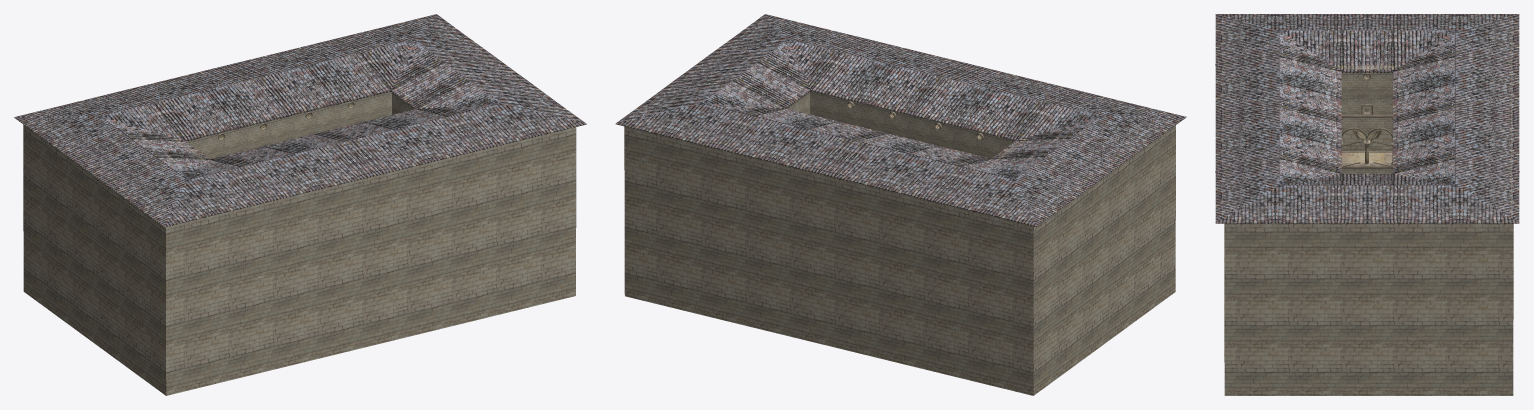
Rendered from sponza.obj.
3 renders of one model, left to right at view 1: azimuth 30°, elevation 25°; view 2: azimuth 150°, elevation 25°; view 3: azimuth 270°, elevation 25°, orthographic.
Visible parts, largest first — view 1: sponza_379, sponza_380, sponza_381, sponza_36; view 2: sponza_379, sponza_380, sponza_381, sponza_36; view 3: sponza_379, sponza_380, sponza_381, sponza_36, sponza_68, sponza_34, sponza_18, sponza_06, sponza_07.
Boxes of the visible parts, box(x1,y1,x2,y2) form: sponza_379: box(23, 124, 576, 395); sponza_380: box(14, 14, 586, 227); sponza_381: box(101, 40, 499, 179); sponza_36: box(186, 91, 415, 158); sponza_379: box(624, 125, 1175, 395); sponza_380: box(615, 14, 1186, 226); sponza_381: box(702, 40, 1099, 179); sponza_36: box(787, 91, 1015, 158); sponza_379: box(1224, 17, 1513, 395); sponza_380: box(1215, 14, 1519, 223); sponza_381: box(1279, 30, 1455, 185); sponza_36: box(1341, 72, 1392, 114); sponza_68: box(1341, 130, 1392, 151); sponza_34: box(1342, 117, 1392, 134); sponza_18: box(1341, 152, 1392, 162); sponza_06: box(1342, 168, 1392, 174); sponza_07: box(1342, 163, 1392, 168).
Bounding box in the file's own units: 3721 × 1556 × 2288.
Materials: 25 (24 with a texture image).
